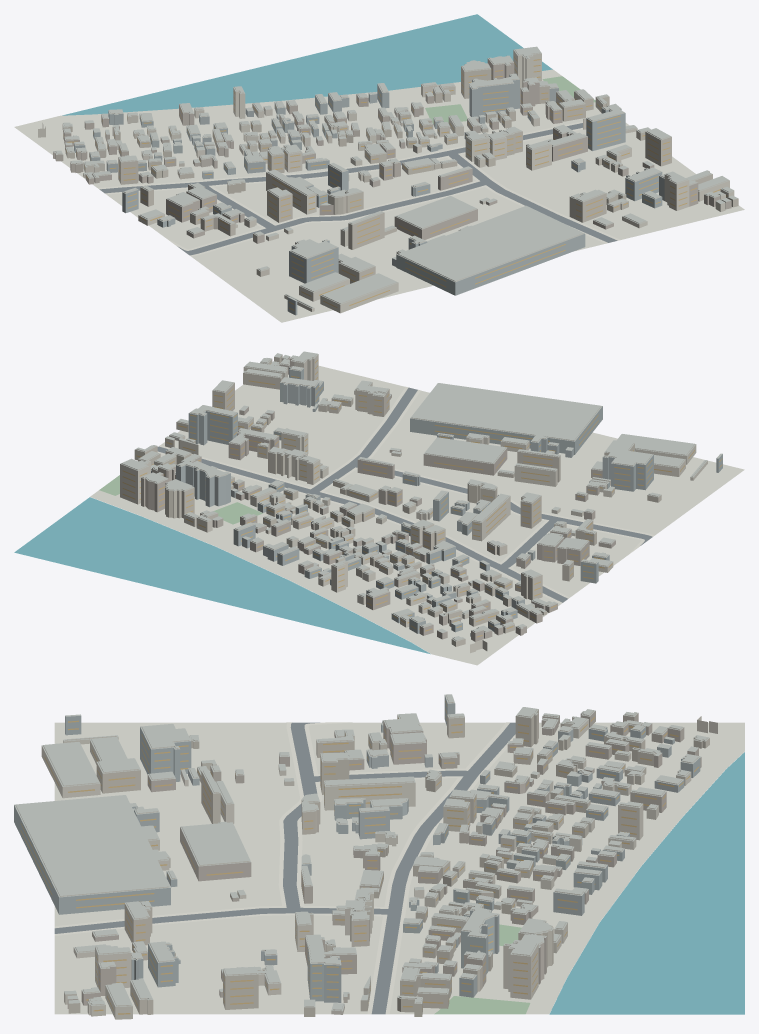
3 renders of one model, top to bottom at view 1: azimuth 30°, elevation 25°; view 2: azimuth 150°, elevation 25°; view 3: azimuth 270°, elevation 25°, orthographic. The views are drawn at different scales.
Visible parts, largest first — view 1: city; view 2: city; view 3: city.
Part boxes in pixels (x1,y1,x2,y2): city: [14, 14, 744, 322]; city: [14, 351, 744, 665]; city: [14, 694, 744, 1019].
Bounding box in the file's own units: 515 × 35.38 × 530.
